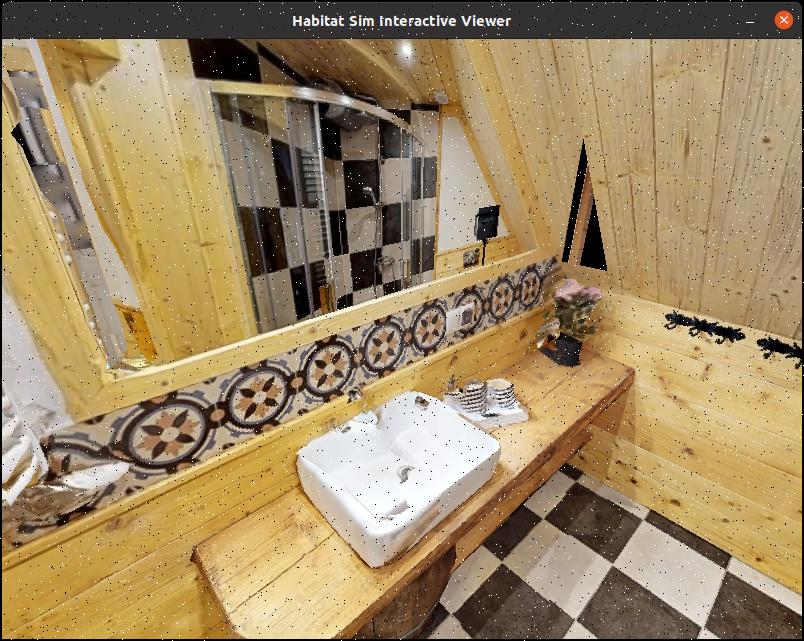sink: (271, 366, 519, 565)
